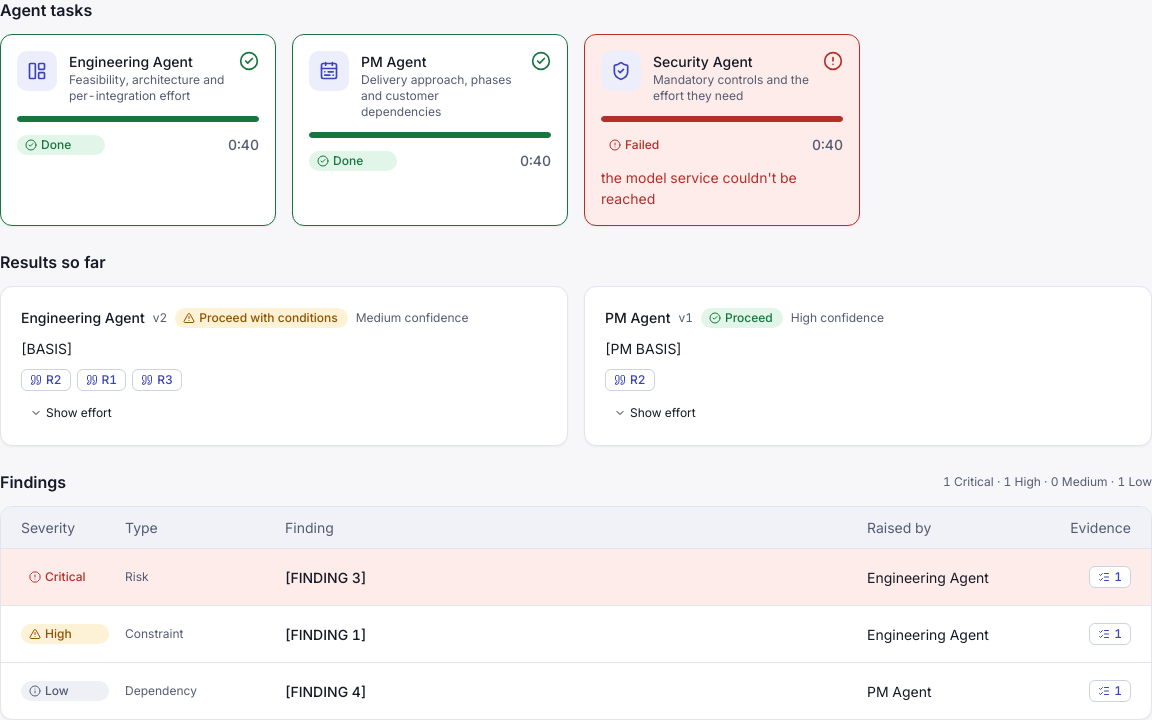
it: SpecialistAssessmentsSection › a sales representative sees the same Assessments, with no Run assessment or Retry
The image size is (1152, 720).
(page scrolled)
Step 1. Click the button "Low Dependency [FINDING 4] PM Agent 1" → point(65, 691), box [1,663,1151,719]
(page scrolled)
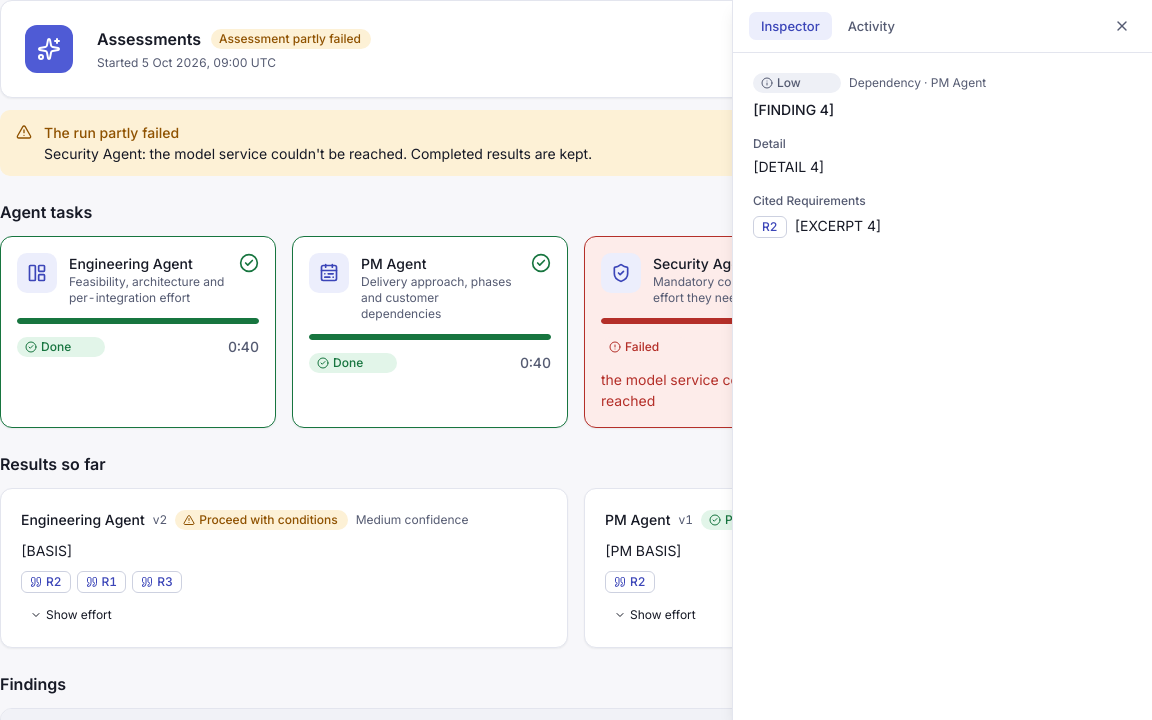
Now the text "[DETAIL 4]" is shown, box [753,158,824,175]
